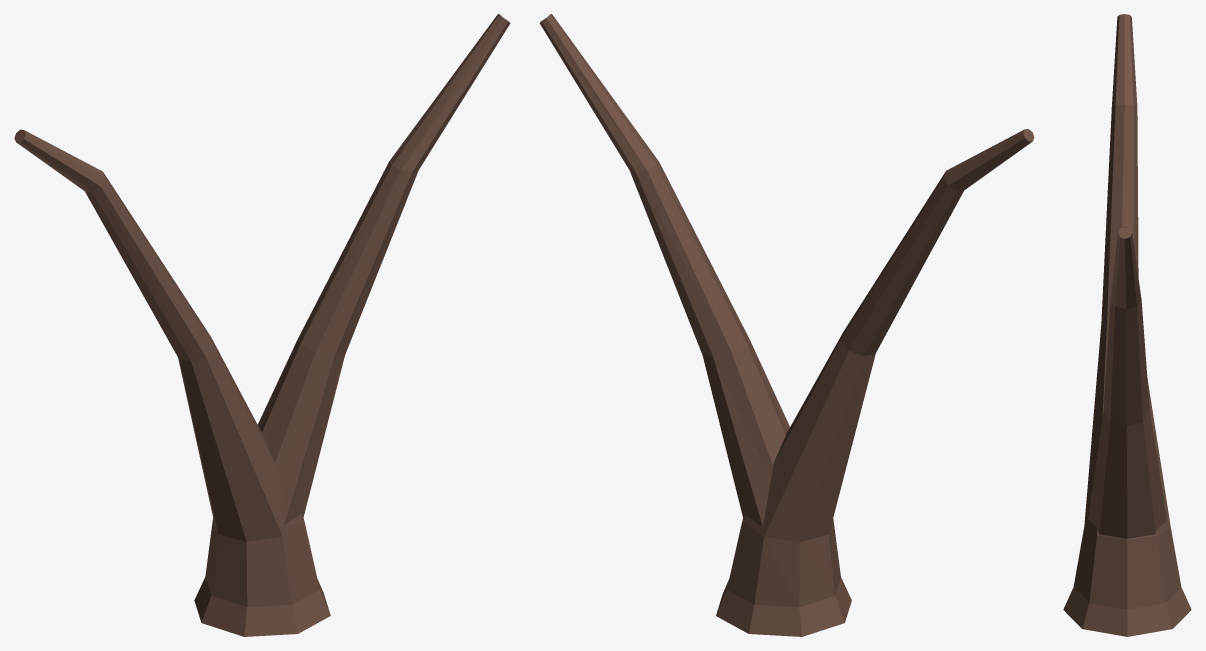
File: split_trunk_deciduous_tree_no_leaves.obj
3 renders of one model, left to right at view 1: azimuth 30°, elevation 25°; view 2: azimuth 150°, elevation 25°; view 3: azimuth 270°, elevation 25°, orthographic. The views are drawn at different scales.
Visible parts, largest first — view 1: Split_trunk_deciduous_tree_no_leaves; view 2: Split_trunk_deciduous_tree_no_leaves; view 3: Split_trunk_deciduous_tree_no_leaves.
Boxes of the visible parts, bbox=[...] form: Split_trunk_deciduous_tree_no_leaves: bbox=[14, 14, 510, 636]; Split_trunk_deciduous_tree_no_leaves: bbox=[539, 14, 1034, 636]; Split_trunk_deciduous_tree_no_leaves: bbox=[1063, 14, 1191, 636].
Size of the model in its own units: 1.94 by 2.02 by 0.4821.
1 material, 1 textured.
